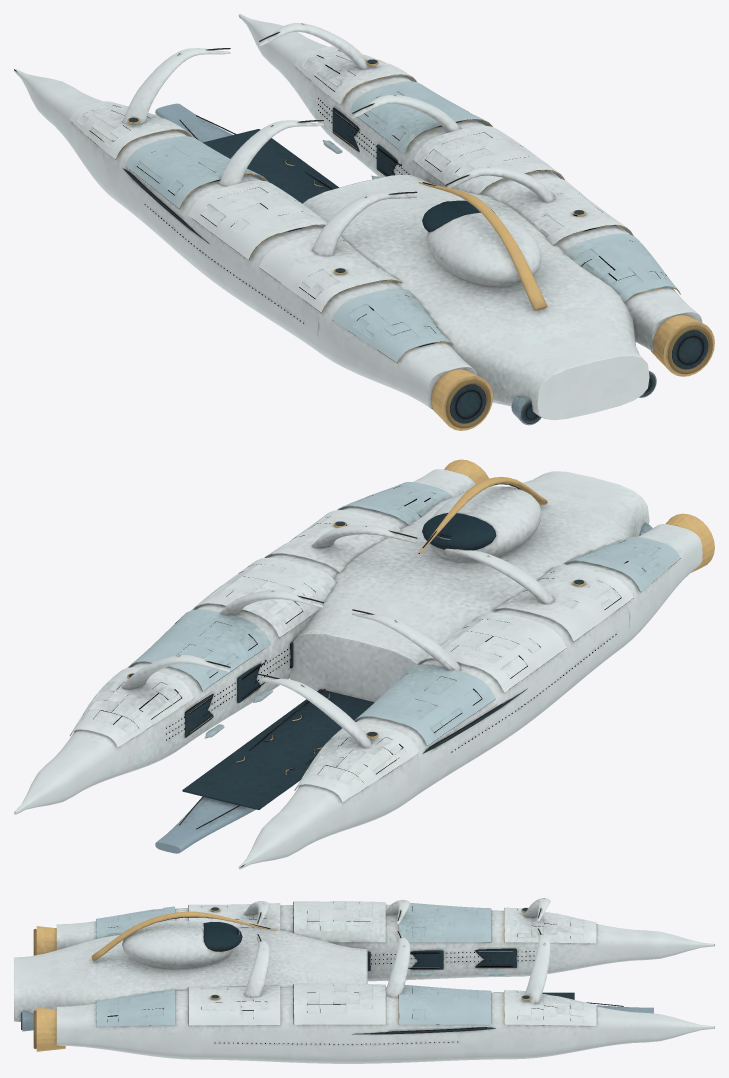
File: open_hand_hero.glb
3 renders of one model, top to bottom at view 1: azimuth 30°, elevation 25°; view 2: azimuth 150°, elevation 25°; view 3: azimuth 270°, elevation 25°, orthographic. The views are drawn at different scales.
Visible parts, largest first — view 1: HullBaked; view 2: HullBaked; view 3: HullBaked.
Part boxes in pixels (x1,y1,x2,y2): HullBaked: [14, 14, 714, 430]; HullBaked: [14, 459, 714, 869]; HullBaked: [14, 898, 714, 1063].
Size of the model in its own units: 45.53 by 20.34 by 115.
Materials: 1 (1 with a texture image).
